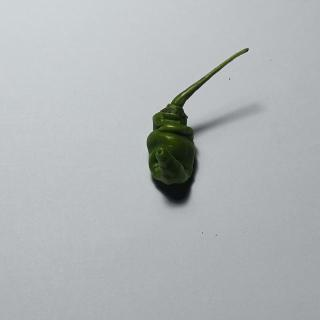Cabai Hijau: (140, 44, 264, 192)
